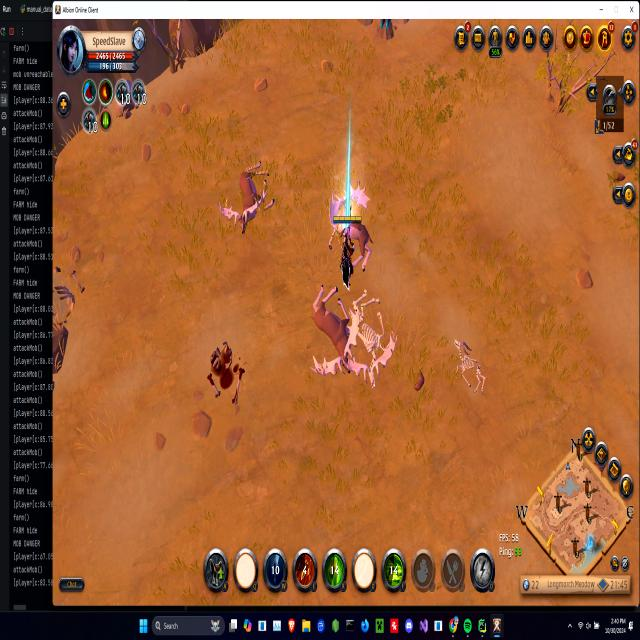mob: (308, 278, 358, 382), (326, 184, 374, 276), (235, 160, 276, 235)
red: (333, 213, 358, 288)
